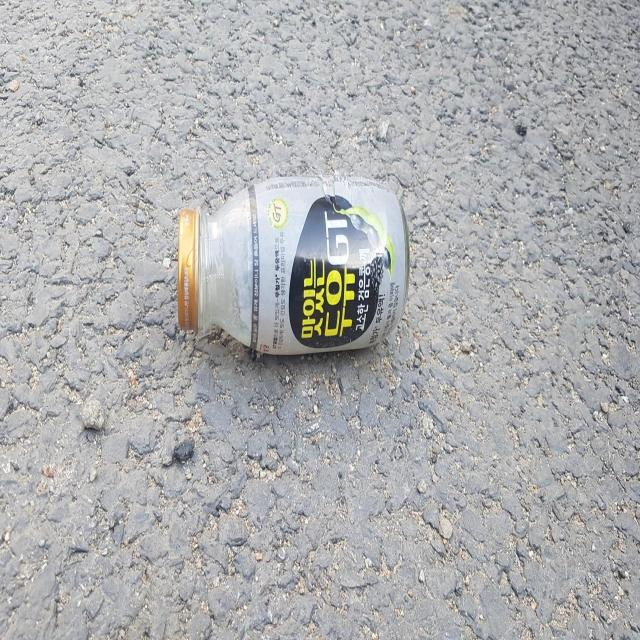glass: (177, 175, 410, 354)
